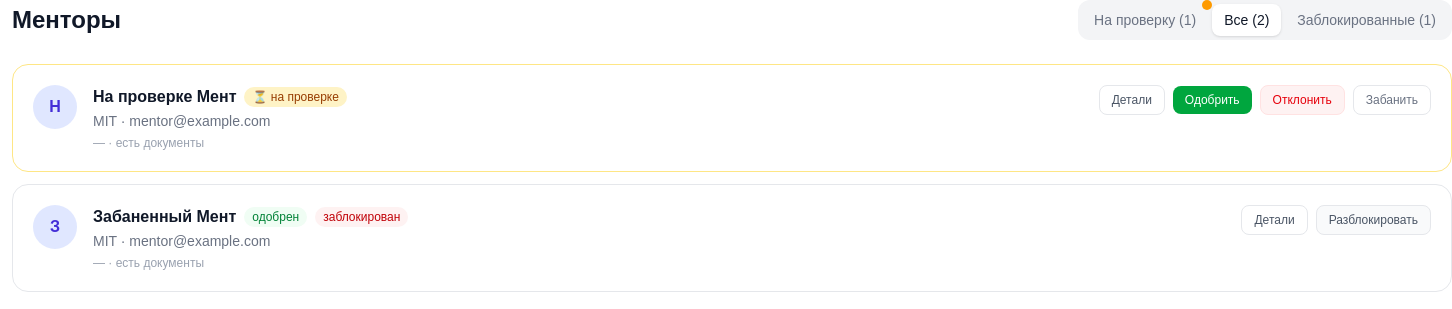
Test case: CRMMentorsPage › switches tabs client-side without re-fetching
The image size is (1452, 309).
Expected: the link "На проверке Мент" is shown, [93, 85, 236, 109]
Click the button "На проверку (1)": (1145, 20) [1082, 4, 1208, 36]
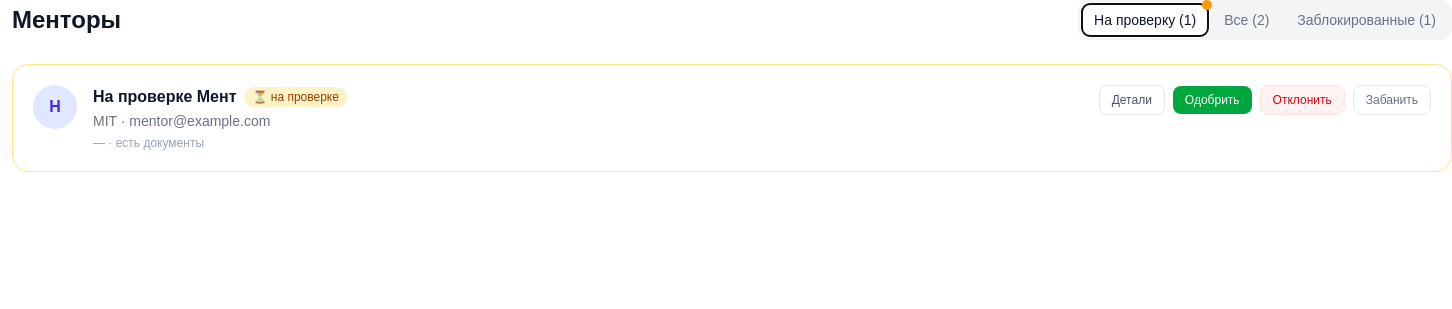
Expected: the link "На проверке Мент" is shown, [93, 85, 236, 109]
Result: the link "Забаненный Мент" is gone
Click the button "Заблокированные (1)": (1367, 20) [1285, 4, 1448, 36]
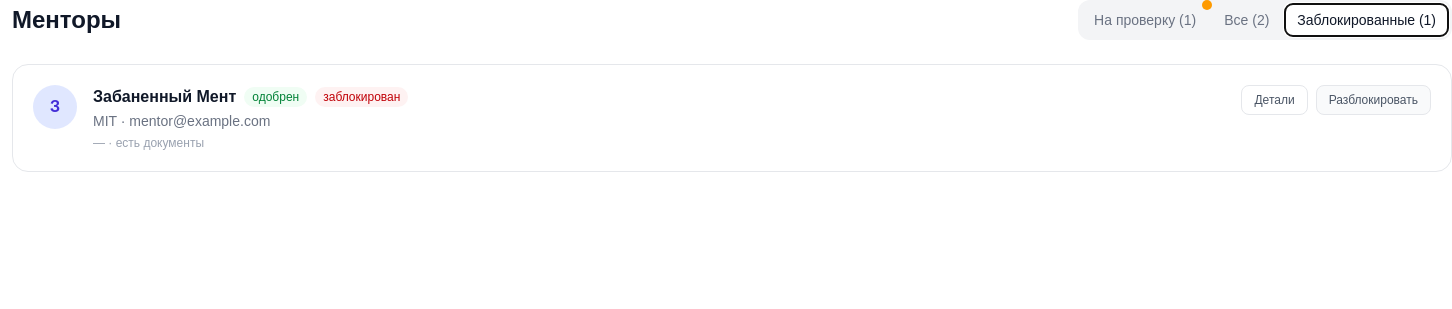
Result: the link "Забаненный Мент" is shown at [93, 85, 236, 109]
Result: the link "На проверке Мент" is gone
